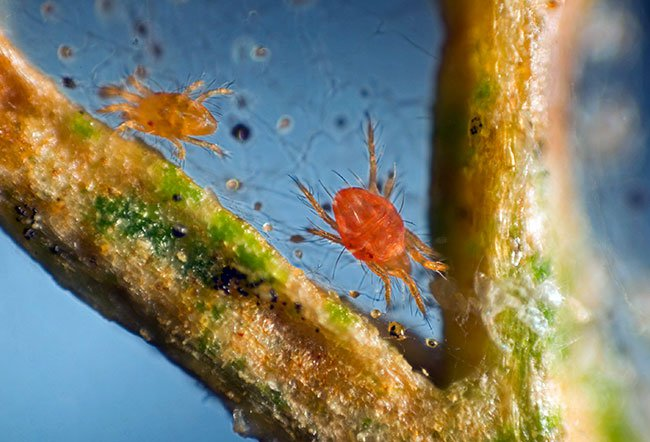Mites: (299, 143, 446, 331), (110, 66, 228, 150)
